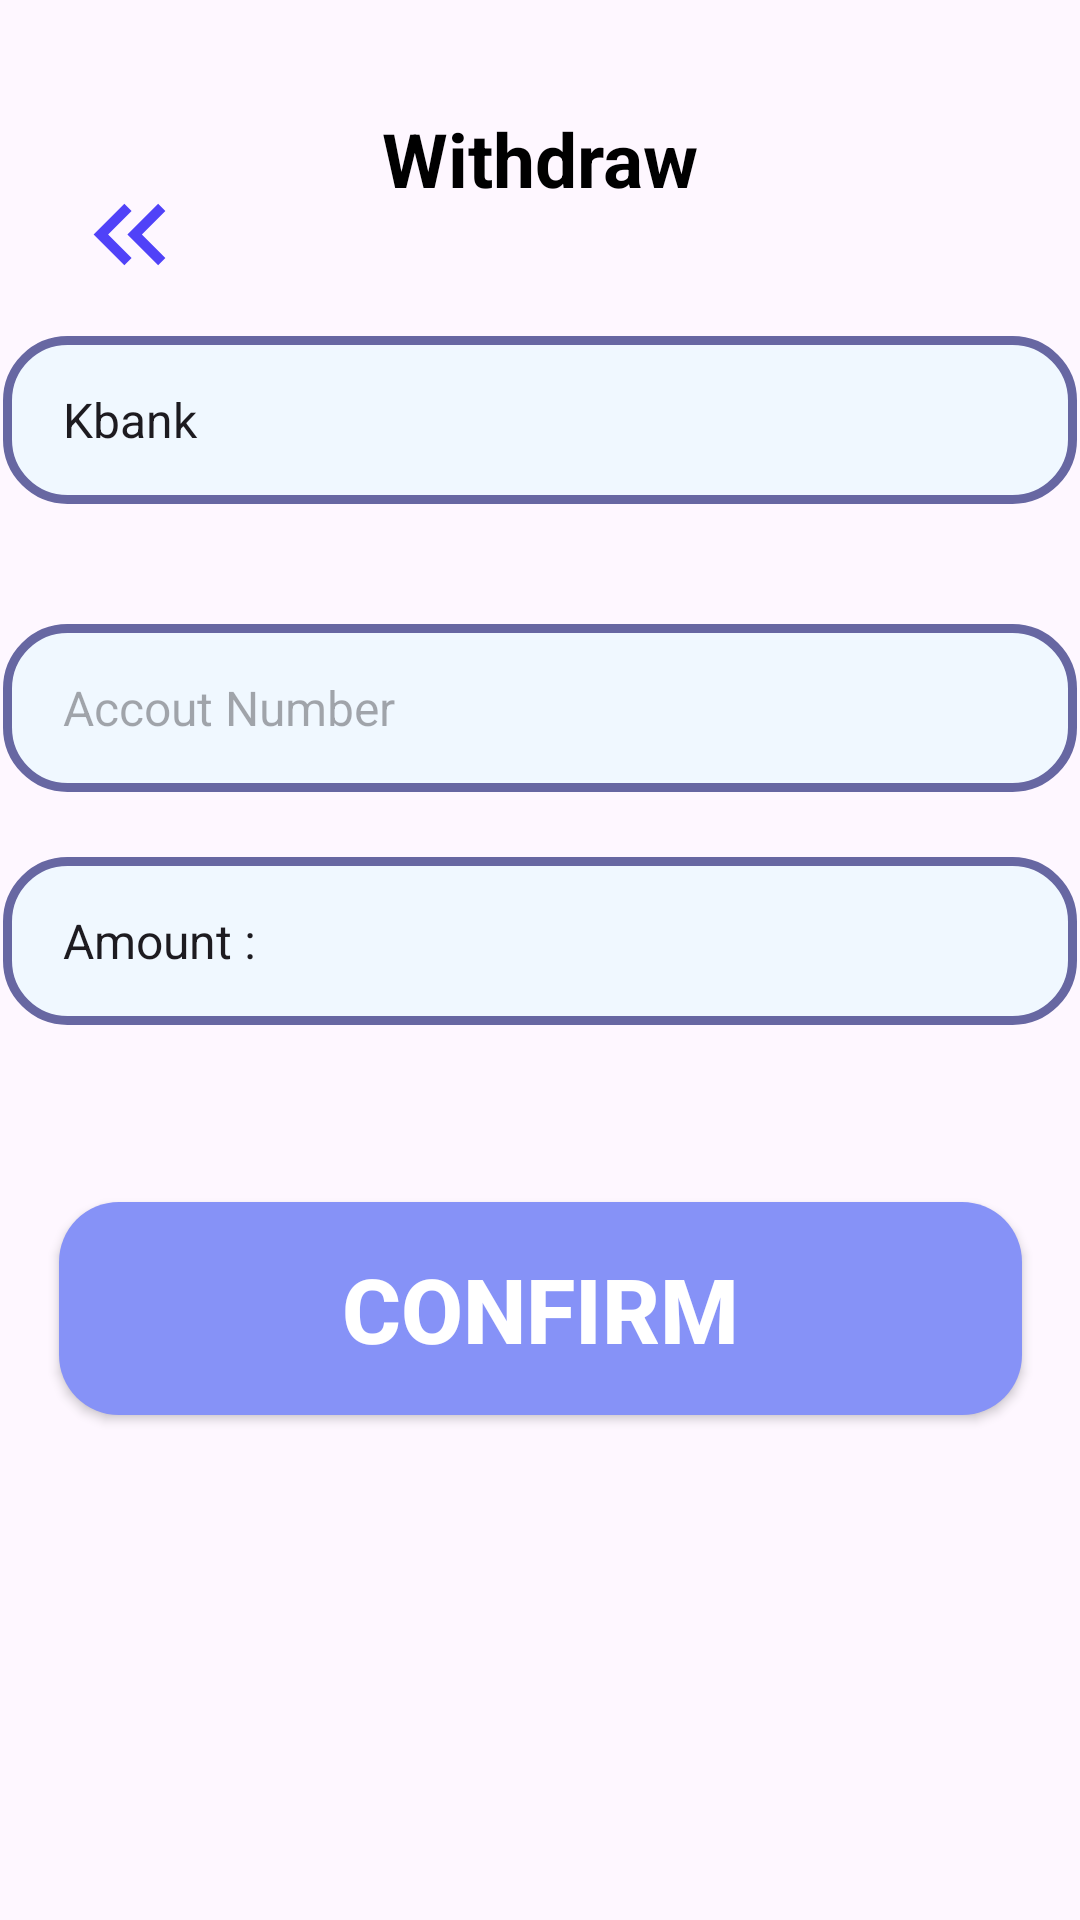

Named icons in this screenshot (1080*1920) and their bounding boxes, (x1, y1, x2, y2):
return left: (93, 204, 165, 265)
